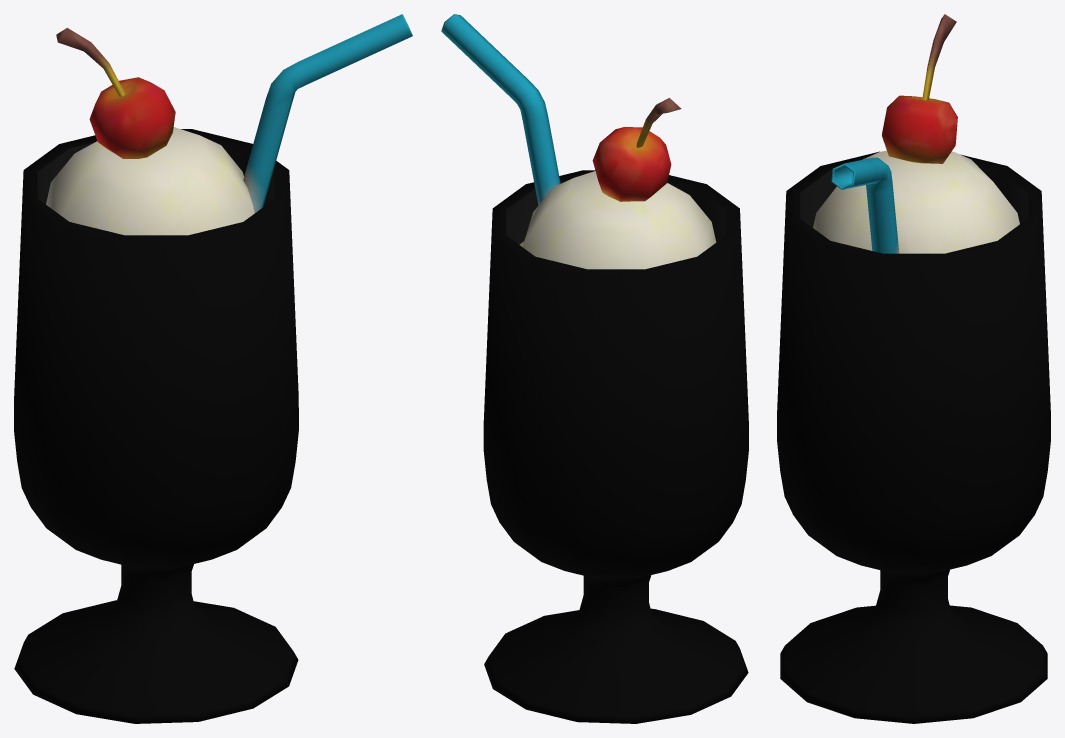
3 views of the same model, side by side, from view 1: azimuth 30°, elevation 25°; view 2: azimuth 150°, elevation 25°; view 3: azimuth 270°, elevation 25° (orthographic). The views are drawn at different scales.
Bounding box in the file's own units: 3.46 × 6.21 × 2.49.
Materials: 3 (3 with a texture image).
